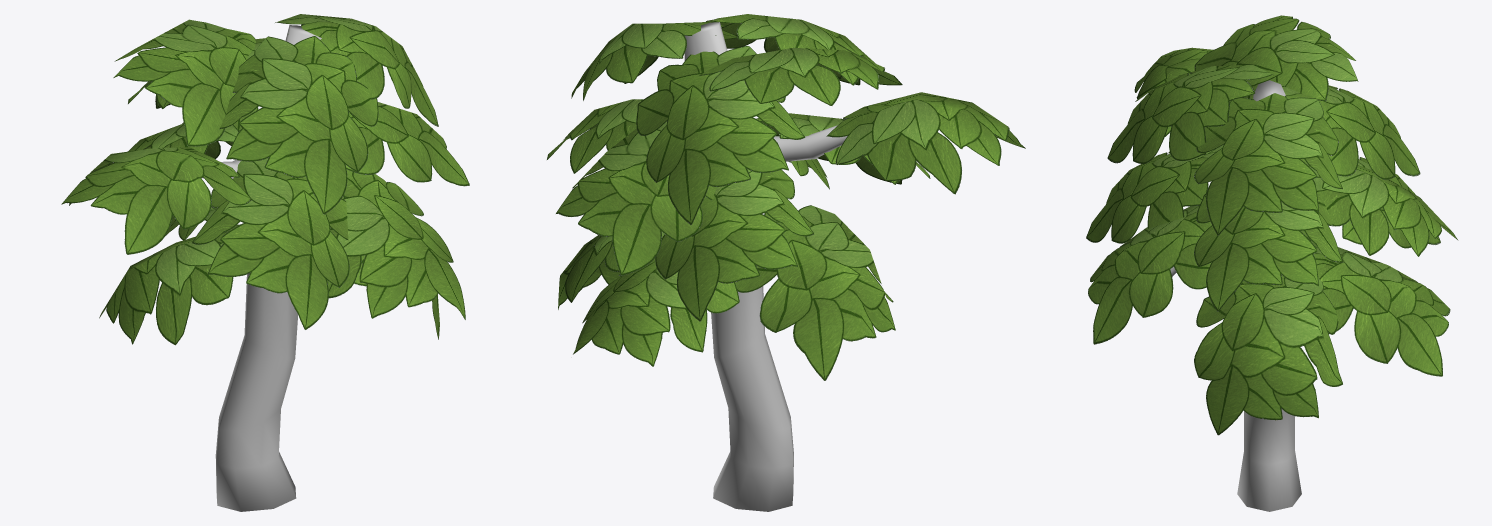
File: tree2.fbx
3 renders of one model, left to right at view 1: azimuth 30°, elevation 25°; view 2: azimuth 150°, elevation 25°; view 3: azimuth 270°, elevation 25°, orthographic. The views are drawn at different scales.
Visible parts, largest first — view 1: U3DMesh; view 2: U3DMesh; view 3: U3DMesh.
Boxes of the visible parts, bbox=[...] form: U3DMesh: bbox=[61, 14, 469, 511]; U3DMesh: bbox=[547, 14, 1025, 511]; U3DMesh: bbox=[1086, 15, 1458, 511].
Bounding box in the file's own units: 25.62 × 24.05 × 20.53.
